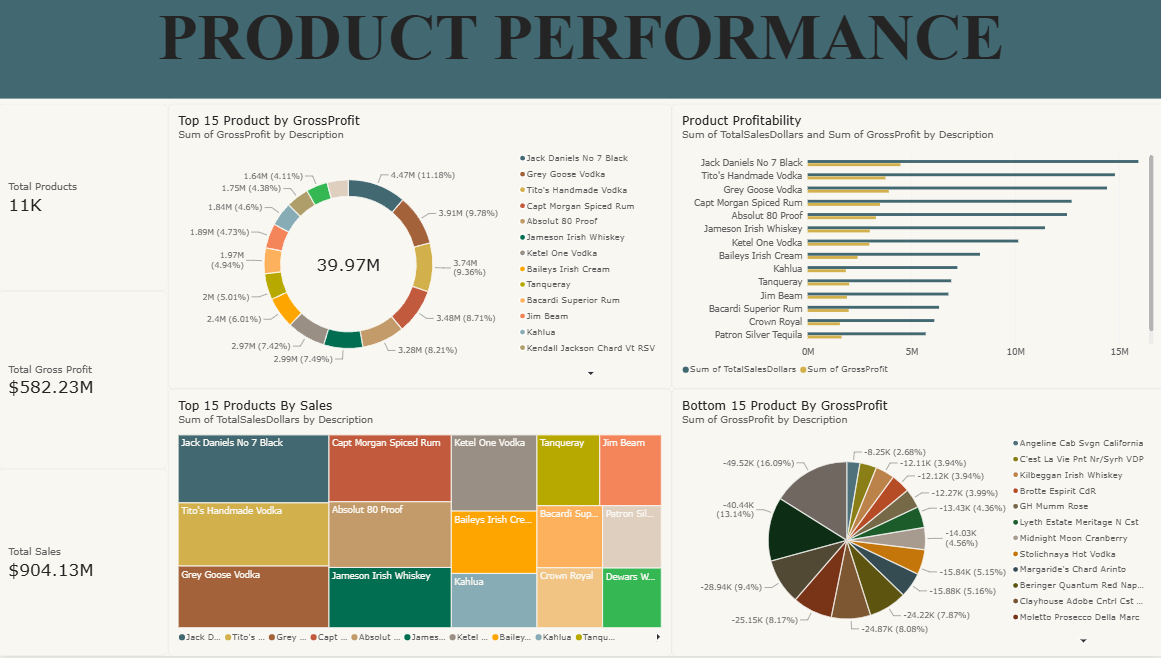

The page's visual inventory and layout, read from the dashboard file:
{"tool":"powerbi","page":{"name":"Product Performance","canvas":[1920,1080],"ordinal":2},"visuals":[{"type":"cardVisual","fields":{"Data":["Vendor_performance.Total Sales"]},"box":[0,771.9,279.9,308.7],"z":0},{"type":"cardVisual","fields":{"Data":["Vendor_performance.Total Gross Profit"]},"box":[0,479.6,279.9,292.3],"z":1000},{"type":"cardVisual","fields":{"Data":["Product_performance.Total Products"]},"box":[0,170.8,279.9,308.7],"z":2000},{"type":"treemap","title":"Top 15 Products By Sales","fields":{"Group":["Product_performance.Description"],"Values":["Sum(Product_performance.TotalSalesDollars)"]},"box":[279.9,640.1,829.5,440.5],"z":3000},{"type":"donutChart","title":"Top 15 Product by GrossProfit","fields":{"Category":["Product_performance.Description"],"Y":["Sum(Product_performance.GrossProfit)"]},"box":[279.9,170.8,829.5,469.3],"z":4000},{"type":"clusteredBarChart","title":"Product Profitability ","fields":{"Y":["Sum(Product_performance.TotalSalesDollars)","Sum(Product_performance.GrossProfit)"],"Category":["Product_performance.Description"]},"box":[1109.4,170.8,811,469.3],"z":5000},{"type":"pieChart","title":"Bottom 15 Product By  GrossProfit","fields":{"Category":["Product_performance.Description"],"Y":["Sum(Product_performance.GrossProfit)"]},"box":[1109.4,640.1,811,440.5],"z":6000},{"type":"textbox","box":[0,0,1920.4,162.6],"z":6001}]}

Visuals, with their boxes in screenshot pixels (x1, y1, x2, y2), scaled from the page's 1920x1080 canvas onto the 1161x658 screenshot:
cardVisual - Vendor_performance.Total Sales: box(0, 470, 169, 657)
cardVisual - Vendor_performance.Total Gross Profit: box(0, 292, 169, 470)
cardVisual - Product_performance.Total Products: box(0, 104, 169, 292)
"Top 15 Products By Sales" treemap: box(169, 390, 671, 657)
"Top 15 Product by GrossProfit" donutChart: box(169, 104, 671, 390)
"Product Profitability " clusteredBarChart: box(671, 104, 1160, 390)
"Bottom 15 Product By  GrossProfit" pieChart: box(671, 390, 1160, 657)
textbox: box(0, 0, 1160, 99)
